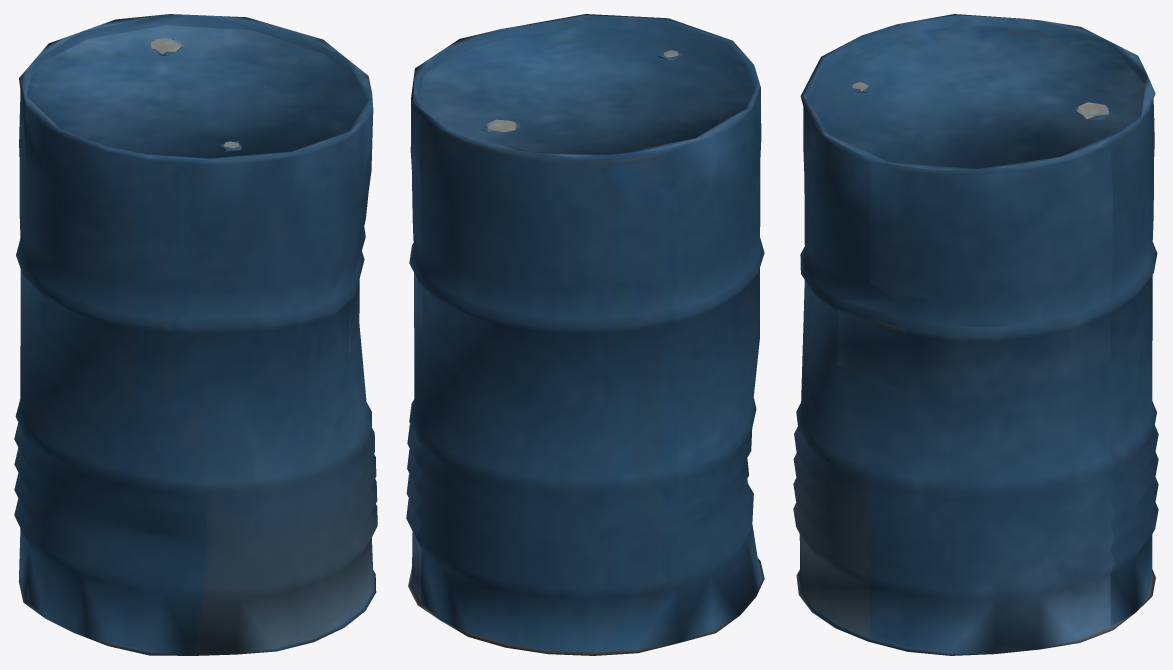
Rendered from barrel-dent.glb.
The picture shows the model from 3 angles, left to right: view 1: azimuth 30°, elevation 25°; view 2: azimuth 150°, elevation 25°; view 3: azimuth 270°, elevation 25°; orthographic projection.
Parts seen in each view (by area): view 1: Metal barrel_Wron1; view 2: Metal barrel_Wron1; view 3: Metal barrel_Wron1.
Part boxes in pixels (x1,y1,x2,y2): Metal barrel_Wron1: [14, 14, 377, 655]; Metal barrel_Wron1: [406, 14, 764, 655]; Metal barrel_Wron1: [793, 14, 1158, 655].
Bounding box in the file's own units: 0.5781 × 0.8854 × 0.5926.
Materials: 1 (1 with a texture image).
